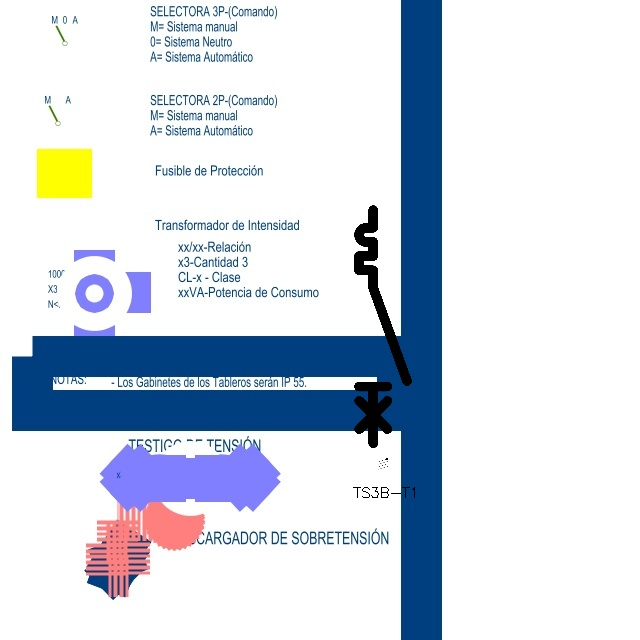interruptor_termomagnetico: (353, 204, 413, 449)
